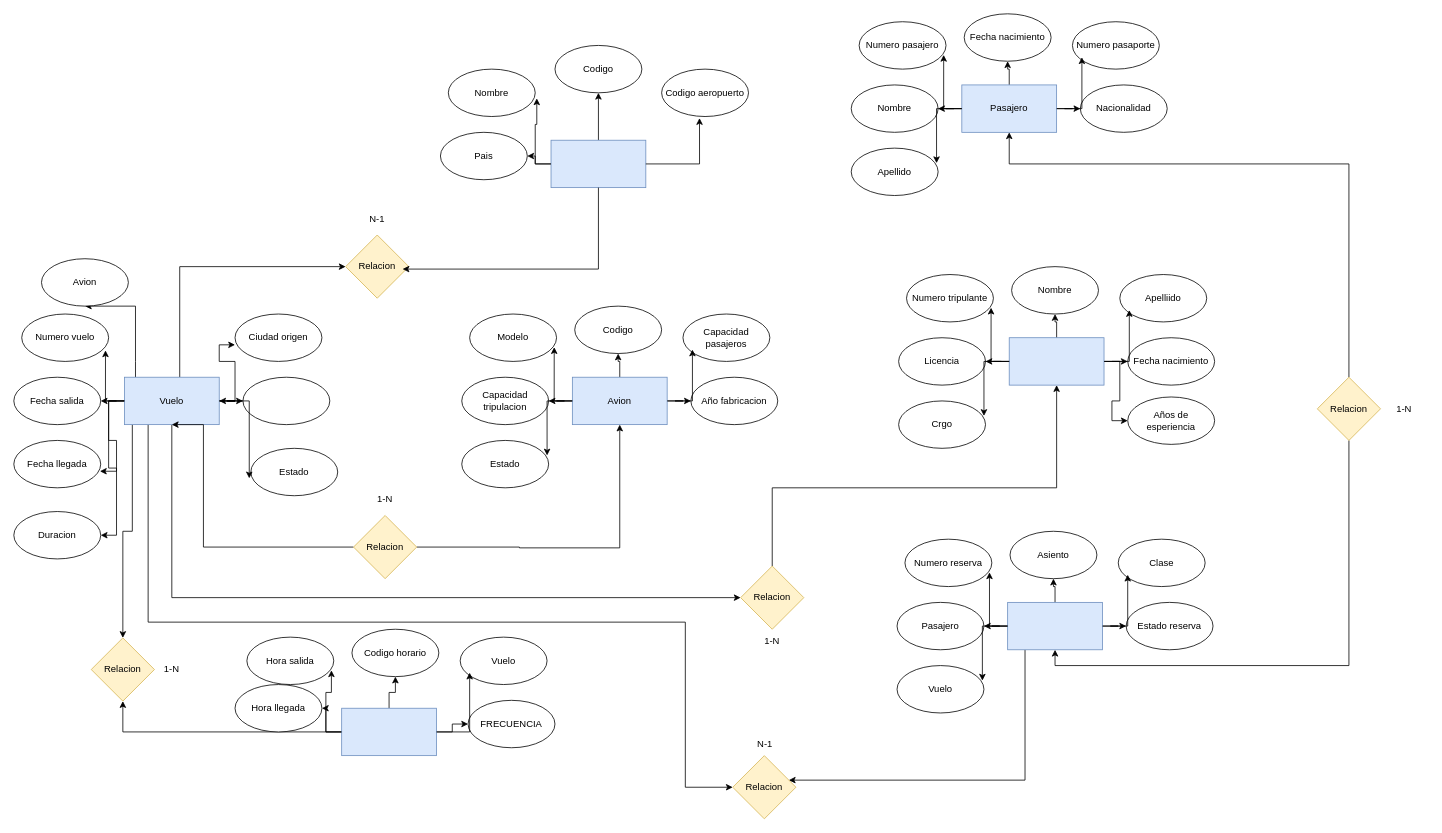
This 1442x833 diagram has some shape labels left out. Here are the shapes that lost their labels. From the top down, the centre of each, then its label:
At (x=598, y=163): "Ciudad".
At (x=1056, y=361): "Tripulacion".
At (x=286, y=400): "Ciudad destino".
At (x=1054, y=626): "Reserva pasajero".
At (x=388, y=731): "Horario vuelo".
